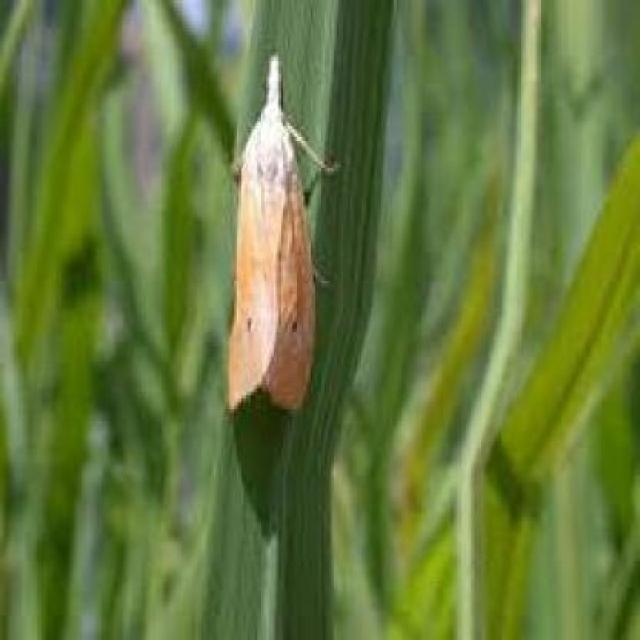stem-borer: (224, 53, 341, 418)
